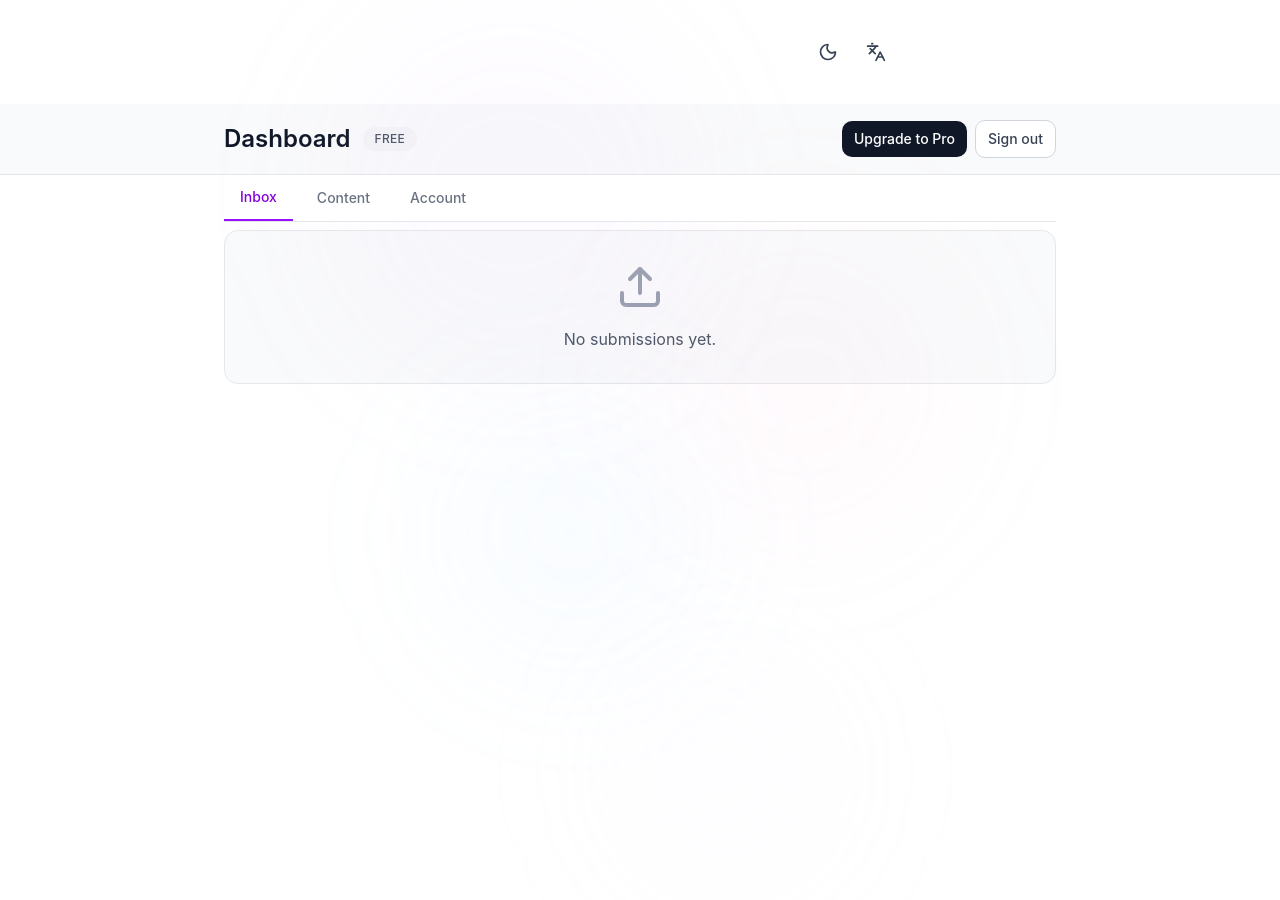
Scenario: Dashboard › should render ContentTab when activeTab is content
The image size is (1280, 900).
Use getAllByText and click the first one (TabNavigation)
Click the button "Content" at {"x": 344, "y": 198}, box left=301, top=175, right=386, bottom=221
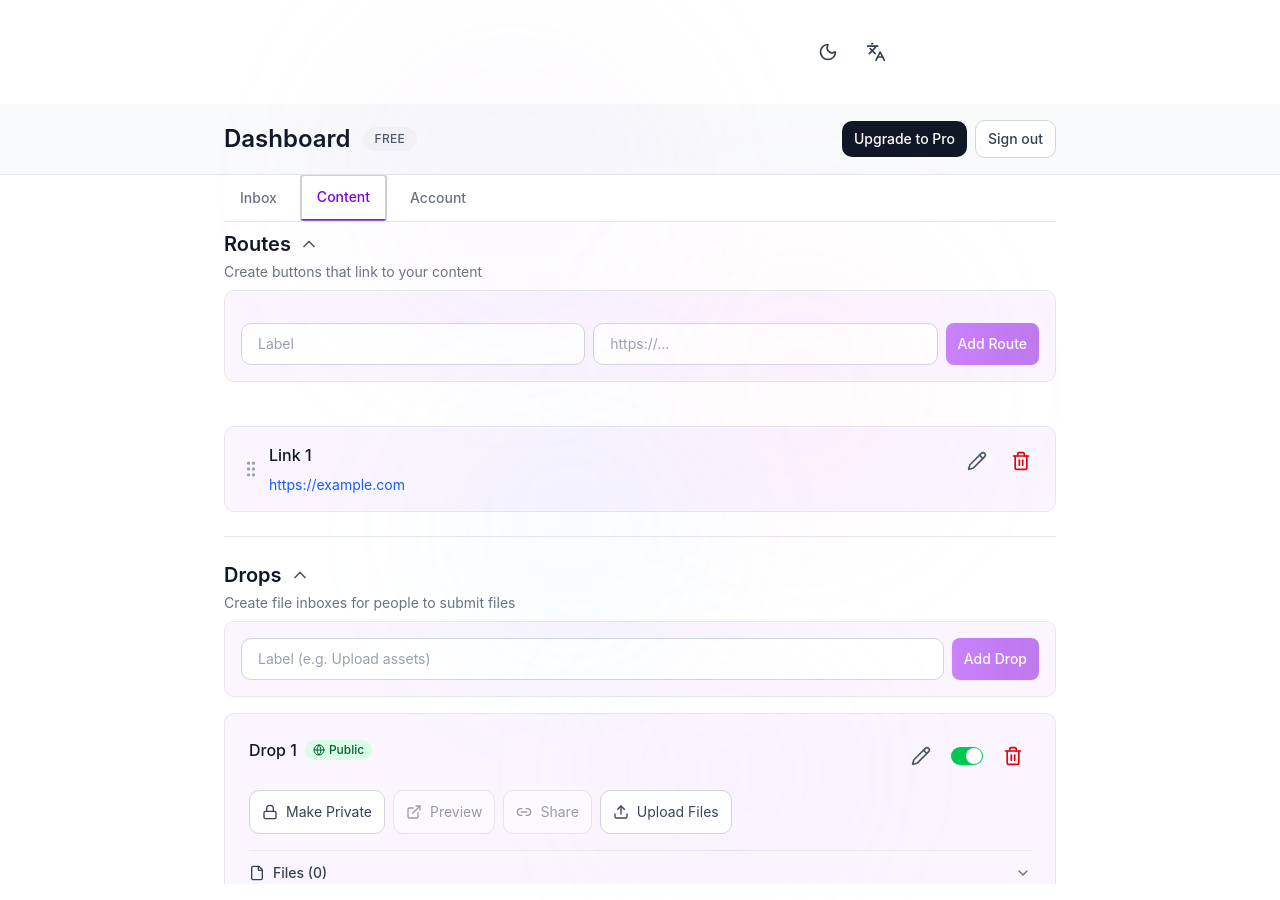
Result: the heading "Routes" is shown at left=224, top=230, right=291, bottom=258
